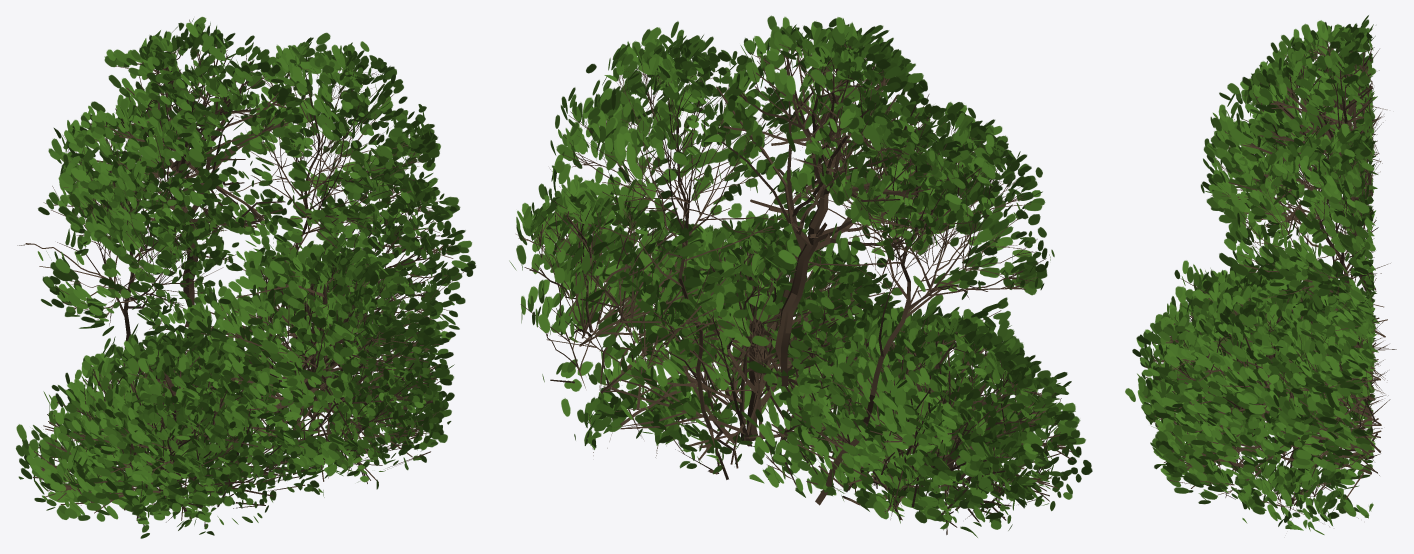
The picture shows the model from 3 angles, left to right: view 1: azimuth 30°, elevation 25°; view 2: azimuth 150°, elevation 25°; view 3: azimuth 270°, elevation 25°; orthographic projection. The views are drawn at different scales.
Visible parts, largest first — view 1: oak 01.001_trunk_Mat.001_0.358; view 2: oak 01.001_trunk_Mat.001_0.358; view 3: oak 01.001_trunk_Mat.001_0.358.
Part boxes in pixels (box(x1,y1,x2,y2)): oak 01.001_trunk_Mat.001_0.358: box(16, 16, 475, 538); oak 01.001_trunk_Mat.001_0.358: box(509, 15, 1092, 537); oak 01.001_trunk_Mat.001_0.358: box(1125, 15, 1396, 534).
Bounding box in the file's own units: 4.98 × 4.46 × 2.67.
2 materials, 1 textured.
